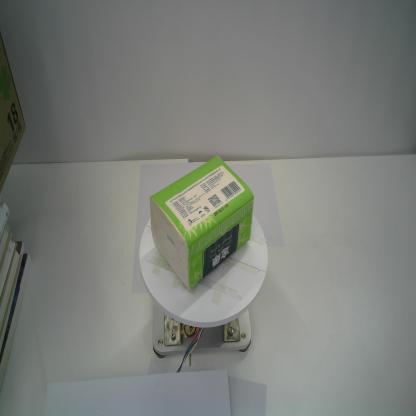Tissue: (149, 154, 255, 292)
